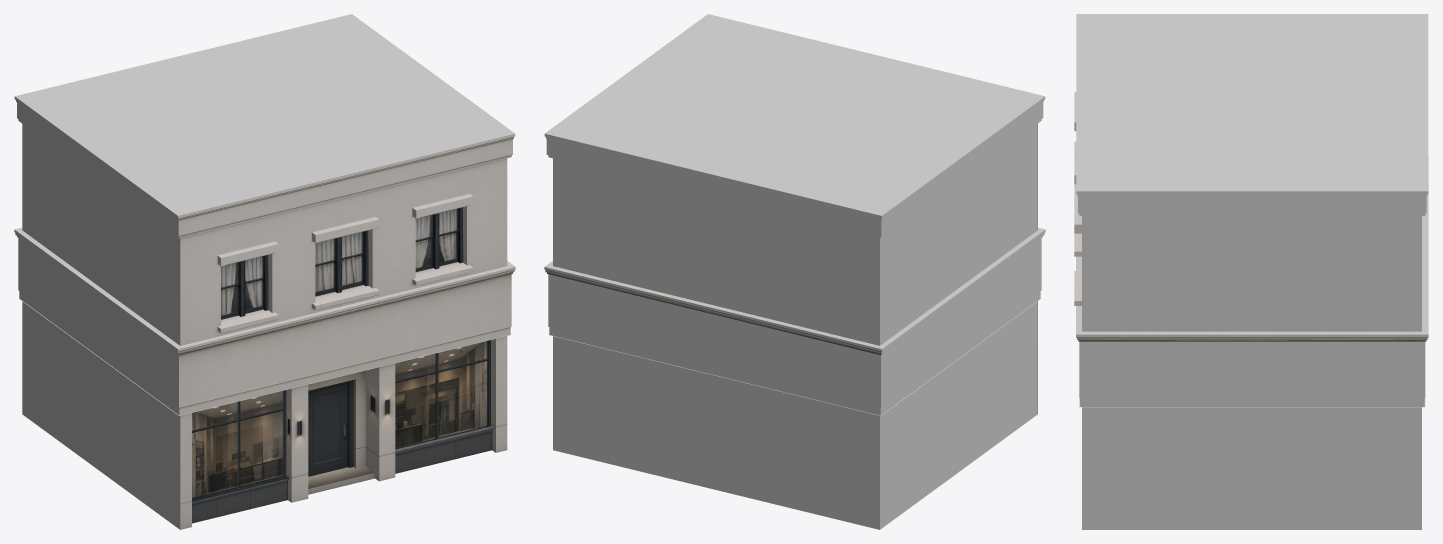
Rendered from mockup-storefront.glb.
3 views of the same model, side by side, from view 1: azimuth 30°, elevation 25°; view 2: azimuth 150°, elevation 25°; view 3: azimuth 270°, elevation 25° (orthographic). The views are drawn at different scales.
Parts seen in each view (by area): view 1: storefront 1; view 2: storefront 1; view 3: storefront 1.
Part boxes in pixels (<box>): storefront 1: <box>14,14,515,529</box>; storefront 1: <box>544,14,1045,529</box>; storefront 1: <box>1074,14,1428,529</box>.
Bounding box in the file's own units: 9.35 × 8.39 × 7.89.
Materials: 2 (1 with a texture image).
